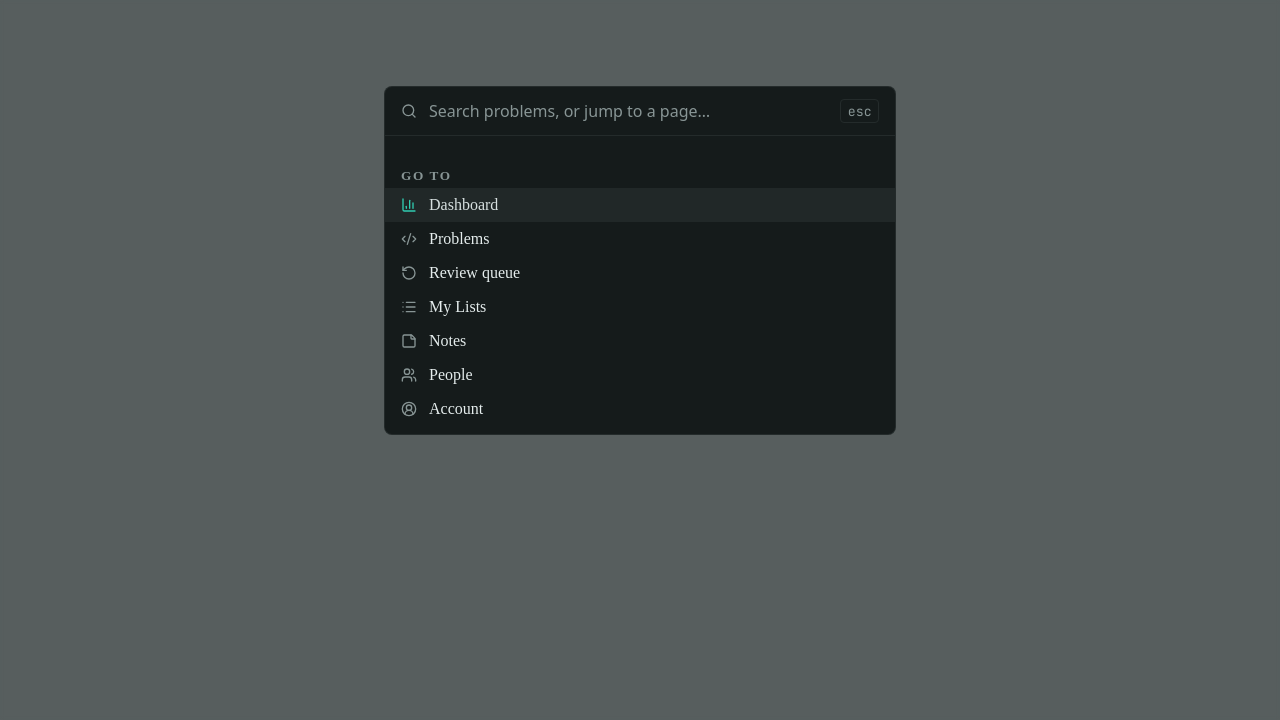
it: CommandPaletteDialog › reports when nothing matches
In the dropdown: [629, 111] box [429, 100, 828, 122], type "zzzz"
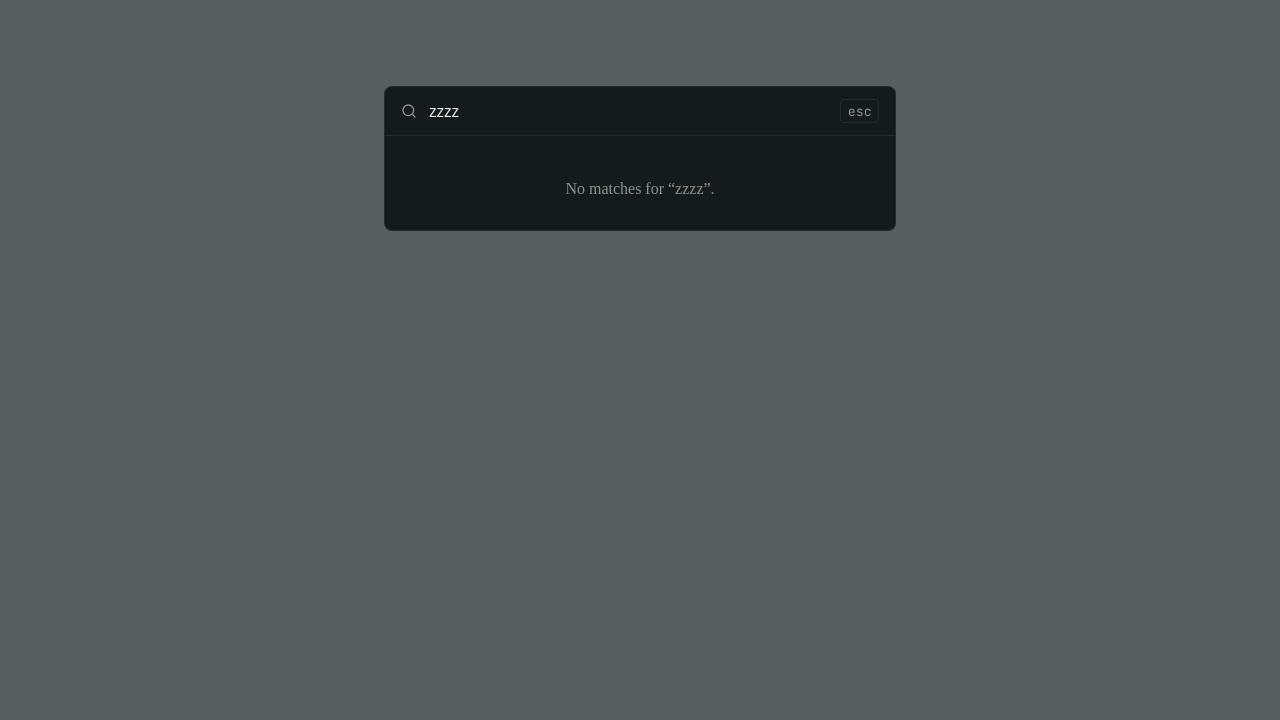
Check: the text "No matches for “zzzz”." is shown, box [565, 180, 715, 197]
